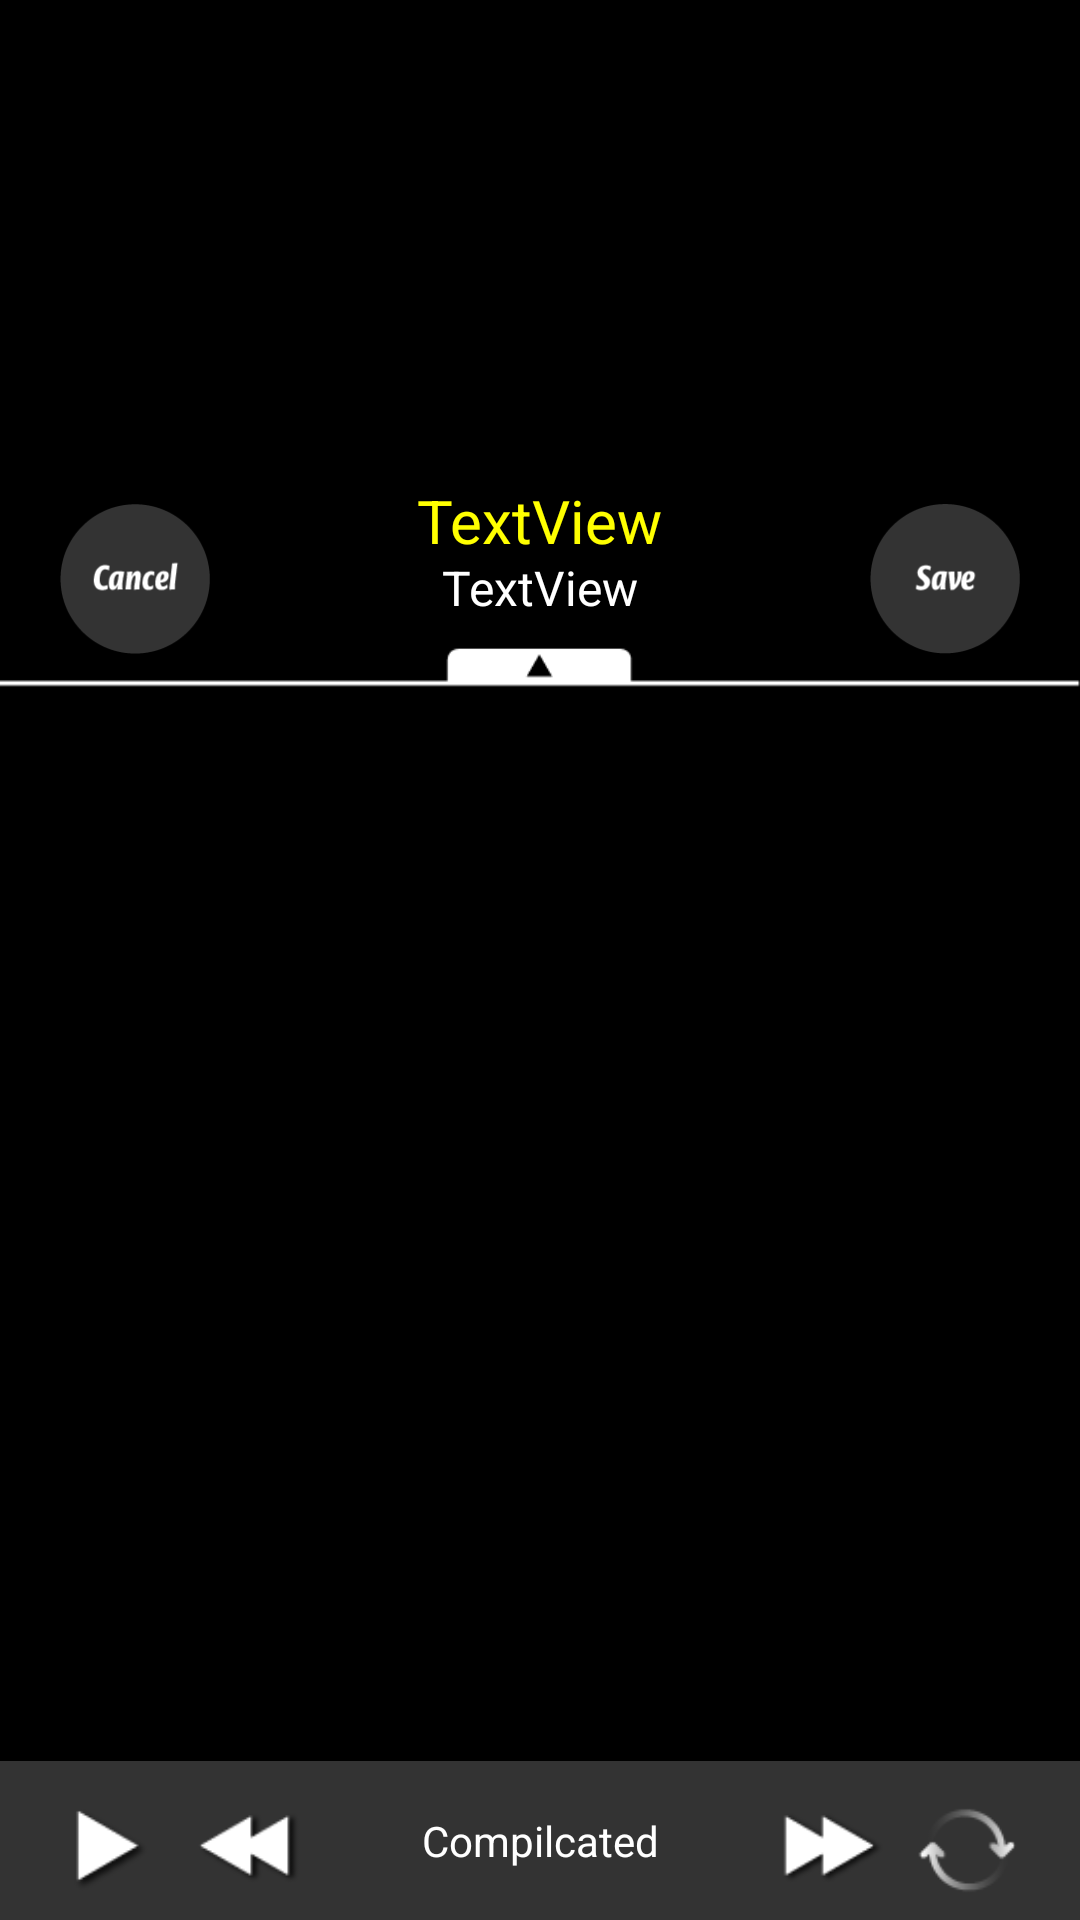

Icons on this 1080px x 1920px Android screen, each with the point to tap as [x,y]:
mini next: [829,1846]
mini once: [967,1849]
mini play: [107,1846]
mini prev: [246,1845]
